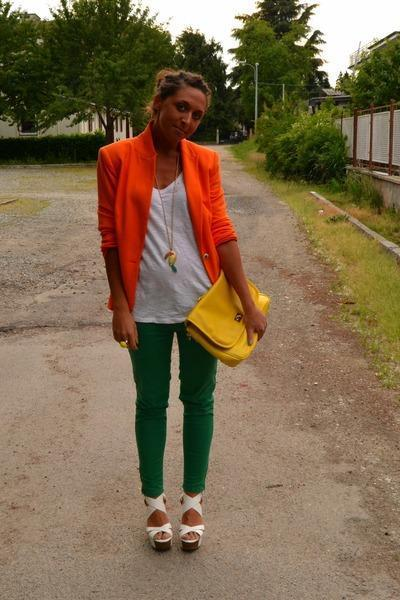bag: (187, 276, 270, 366)
jacket: (85, 132, 235, 295)
pants: (132, 320, 216, 498)
shirt: (134, 173, 210, 323)
shoe: (147, 496, 203, 541)
